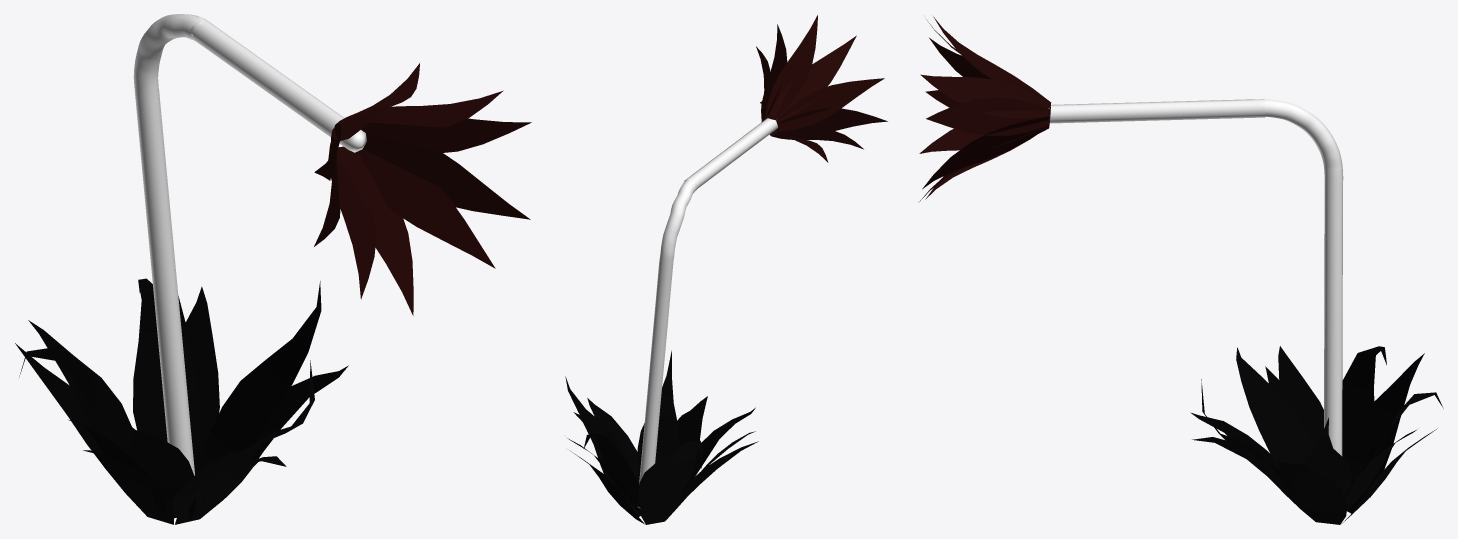
3 renders of one model, left to right at view 1: azimuth 30°, elevation 25°; view 2: azimuth 150°, elevation 25°; view 3: azimuth 270°, elevation 25°, orthographic. The views are drawn at different scales.
Visible parts, largest first — view 1: brush_Petal_g1_b0, brush_Icing_g1_b0; view 2: brush_Petal_g1_b0, brush_Icing_g1_b0; view 3: brush_Petal_g1_b0, brush_Icing_g1_b0.
Boxes of the visible parts, x1,y1,x2,y2 form: brush_Petal_g1_b0: [15, 63, 531, 524]; brush_Icing_g1_b0: [133, 14, 366, 475]; brush_Petal_g1_b0: [565, 15, 887, 524]; brush_Icing_g1_b0: [637, 118, 777, 508]; brush_Petal_g1_b0: [918, 16, 1443, 524]; brush_Icing_g1_b0: [1048, 99, 1343, 456].
Size of the model in its own units: 3.84 by 8.17 by 7.86.
